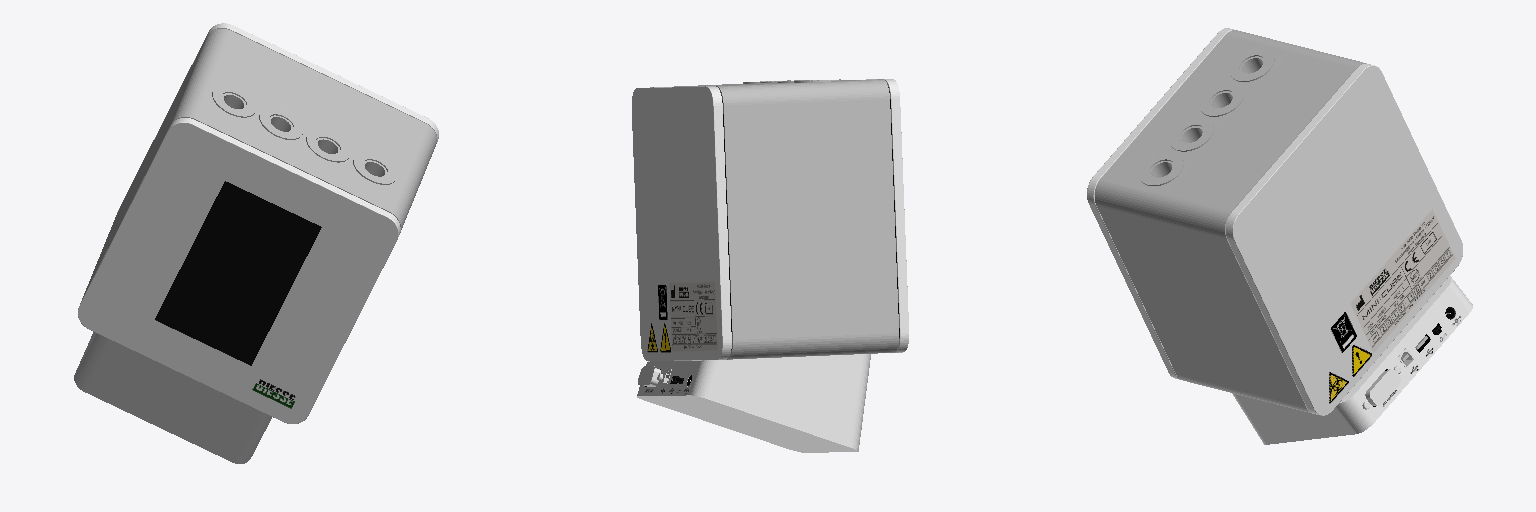
The picture shows the model from 3 angles: view 1: azimuth 30°, elevation 25°; view 2: azimuth 150°, elevation 25°; view 3: azimuth 270°, elevation 25°; orthographic projection.
Parts seen in each view (by area): view 1: Minicube_Base, Minicube_Glass; view 2: Minicube_Base; view 3: Minicube_Base.
Boxes of the visible parts, box(x1,y1,x2,y2) form: Minicube_Base: box(74, 23, 438, 463); Minicube_Glass: box(155, 181, 321, 364); Minicube_Base: box(632, 79, 908, 452); Minicube_Base: box(1087, 28, 1472, 444).
Size of the model in its own units: 10.45 by 12.3 by 10.95.
Materials: 2 (1 with a texture image).